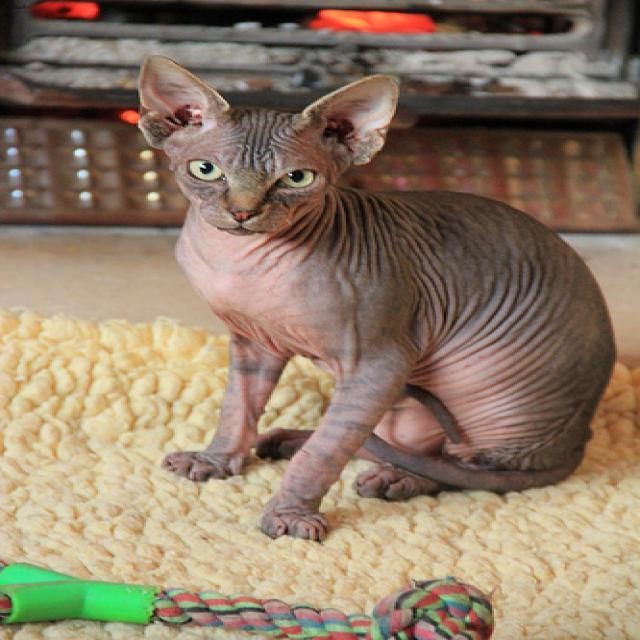Sphynx: (135, 56, 409, 245)
